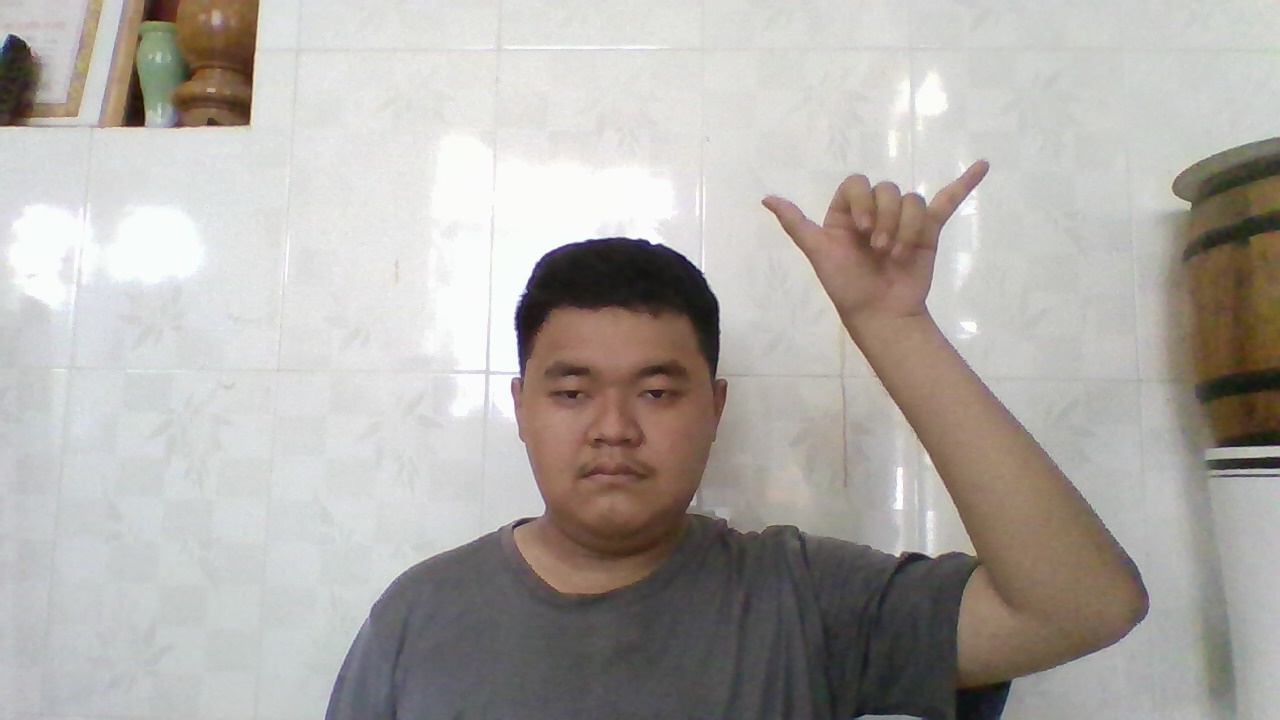Y: (754, 149, 996, 331)
